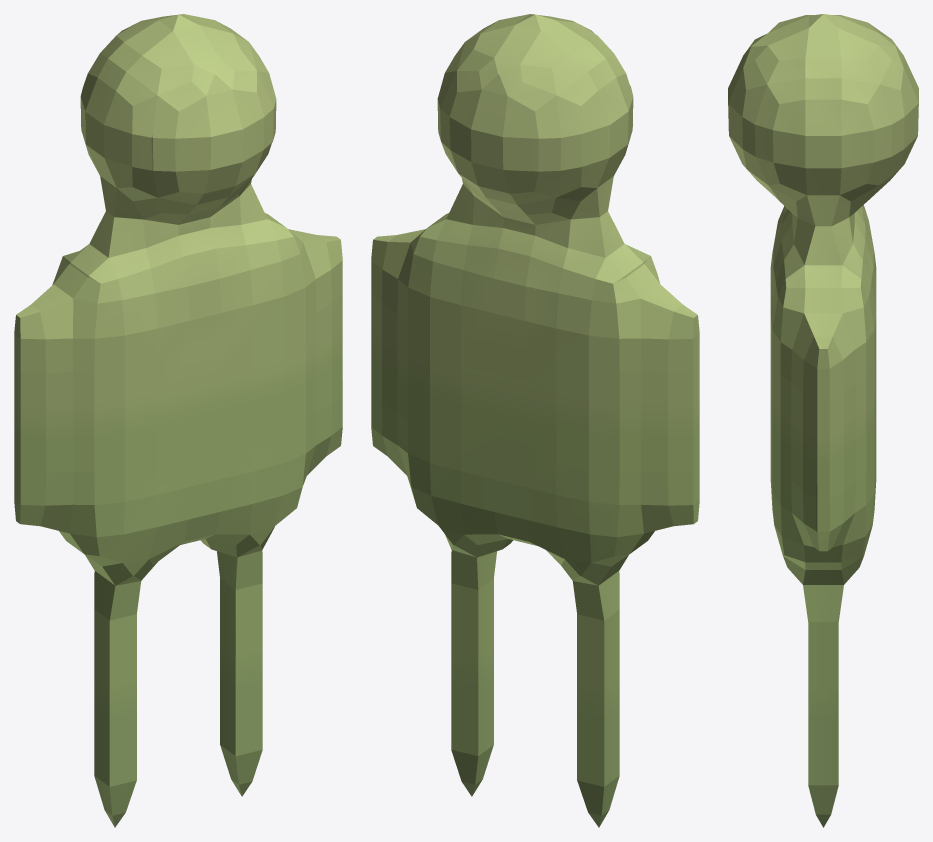
The model's file is mummy.glb.
3 views of the same model, side by side, from view 1: azimuth 30°, elevation 25°; view 2: azimuth 150°, elevation 25°; view 3: azimuth 270°, elevation 25° (orthographic).
Parts seen in each view (by area): view 1: geometry_0; view 2: geometry_0; view 3: geometry_0.
Boxes of the visible parts, x1,y1,x2,y2 form: geometry_0: (14,14,342,827); geometry_0: (371,14,699,827); geometry_0: (728,14,918,827).
Size of the model in its own units: 0.4226 by 1 by 0.2207.
1 material, 1 textured.
